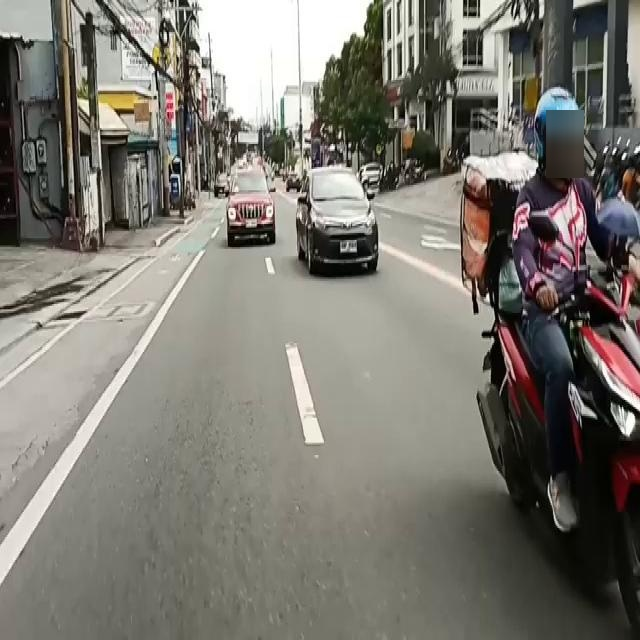car: (299, 171, 375, 269), (214, 172, 279, 245)
motorcycle: (457, 87, 640, 621)
